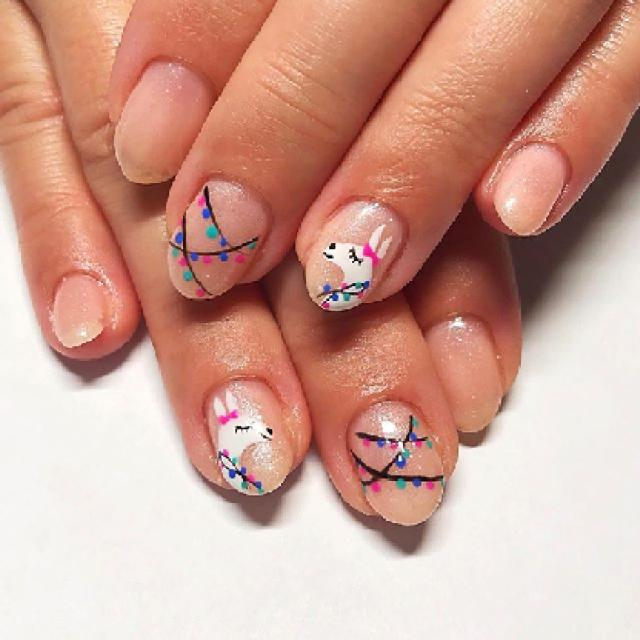Nail: (169, 178, 270, 298), (348, 402, 445, 524), (115, 61, 212, 182), (306, 200, 401, 309), (208, 379, 294, 494), (426, 316, 502, 431), (491, 142, 570, 234), (56, 274, 109, 348)
